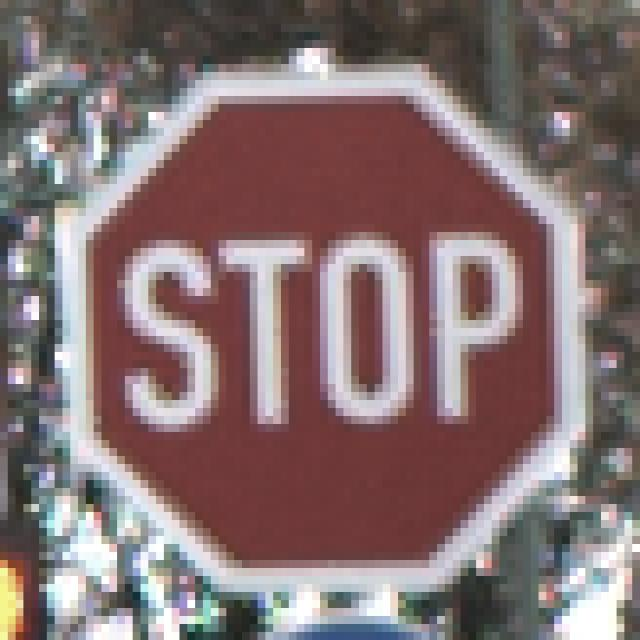STOP: (56, 65, 586, 585)
